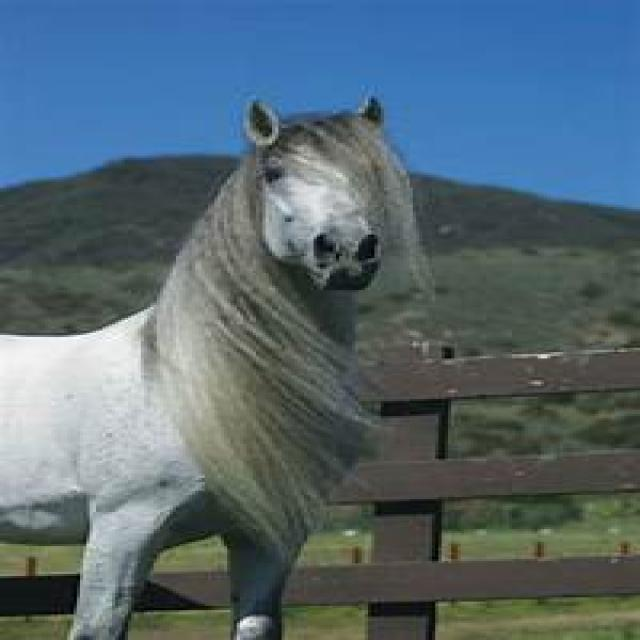horse: (2, 102, 412, 639)
